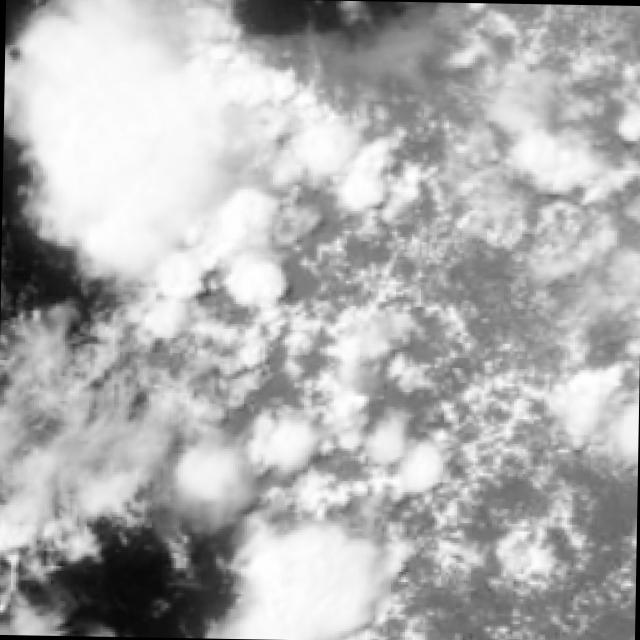CB: (51, 38, 192, 229)
